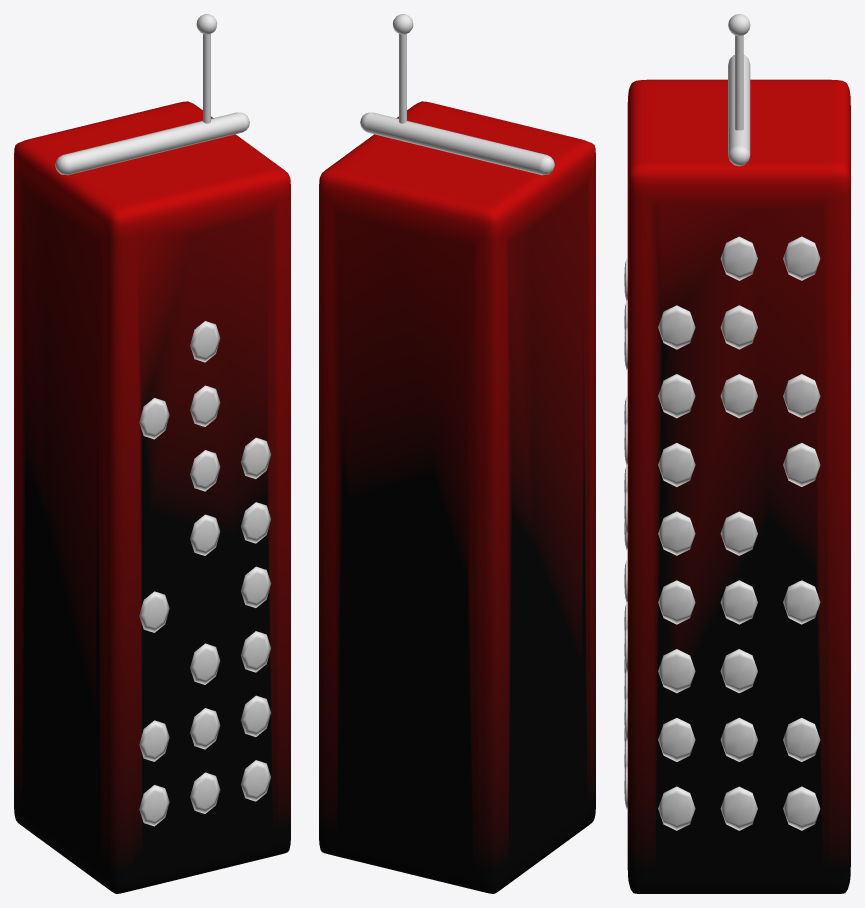
File: bg-city-a.glb
3 renders of one model, left to right at view 1: azimuth 30°, elevation 25°; view 2: azimuth 150°, elevation 25°; view 3: azimuth 270°, elevation 25°, orthographic. The views are drawn at different scales.
Visible parts, largest first — view 1: towerMesh, windows0, roof, windows2, windows1; view 2: towerMesh, roof; view 3: towerMesh, windows2, windows1, windows0, roof.
Boxes of the visible parts, left/top/right/bottom form: towerMesh: left=14, top=101, right=290, bottom=893; windows0: left=139, top=321, right=271, bottom=826; roof: left=55, top=14, right=249, bottom=175; windows2: left=139, top=450, right=271, bottom=801; windows1: left=190, top=385, right=271, bottom=813; towerMesh: left=319, top=101, right=595, bottom=893; roof: left=360, top=14, right=554, bottom=175; towerMesh: left=627, top=79, right=850, bottom=893; windows2: left=624, top=236, right=820, bottom=830; windows1: left=624, top=236, right=820, bottom=830; windows0: left=624, top=258, right=820, bottom=830; roof: left=728, top=14, right=750, bottom=166.
Bounding box in the file's own units: 5.3 × 21.35 × 5.08.
